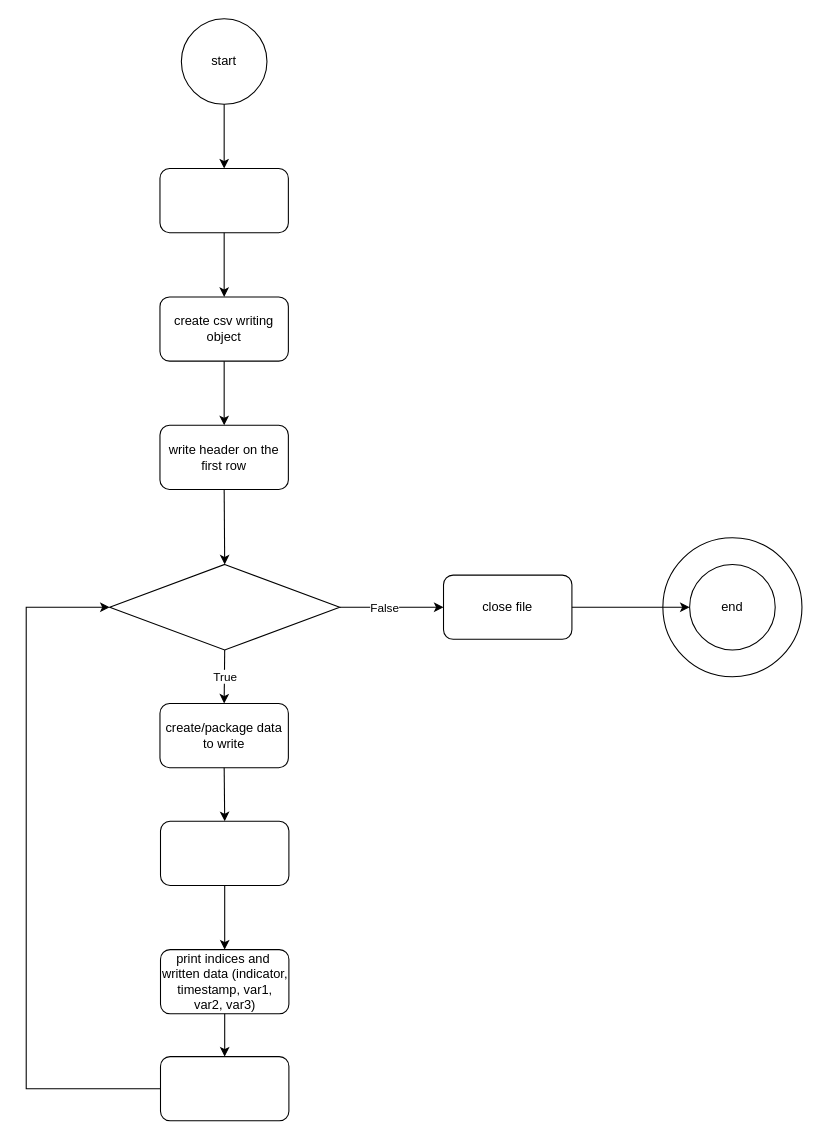
Image size: 821x1140. Some labels were removed from this diagram. Each missing label, with the box of its shape:
if index < some condition: (109, 563, 340, 650)
open file "filename" as write: (159, 167, 288, 233)
sleep for 1 second: (159, 1056, 289, 1121)
write to file: (159, 820, 289, 885)
